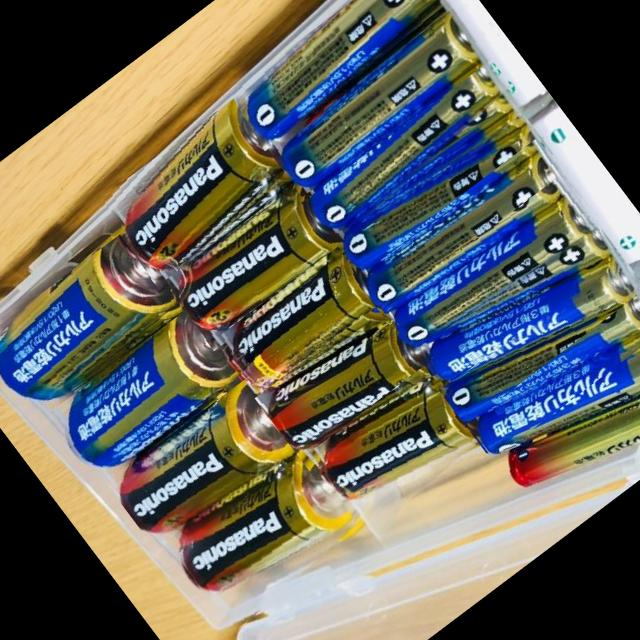Hazard: (382, 170, 620, 380), (352, 135, 582, 334), (414, 215, 640, 416), (328, 98, 554, 291), (42, 300, 258, 498), (266, 7, 489, 196), (301, 58, 525, 246), (162, 436, 371, 634), (94, 92, 305, 288), (438, 256, 640, 457), (106, 370, 315, 562), (0, 221, 195, 422), (254, 290, 458, 479), (214, 231, 418, 418), (465, 293, 640, 497), (304, 354, 499, 536), (223, 0, 459, 150), (162, 175, 354, 350), (486, 333, 640, 541)
